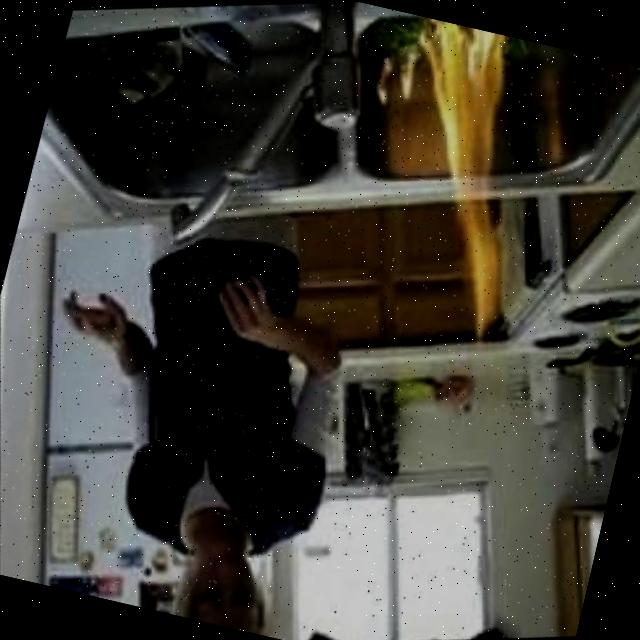fire: (343, 13, 581, 352), (354, 34, 426, 106)
